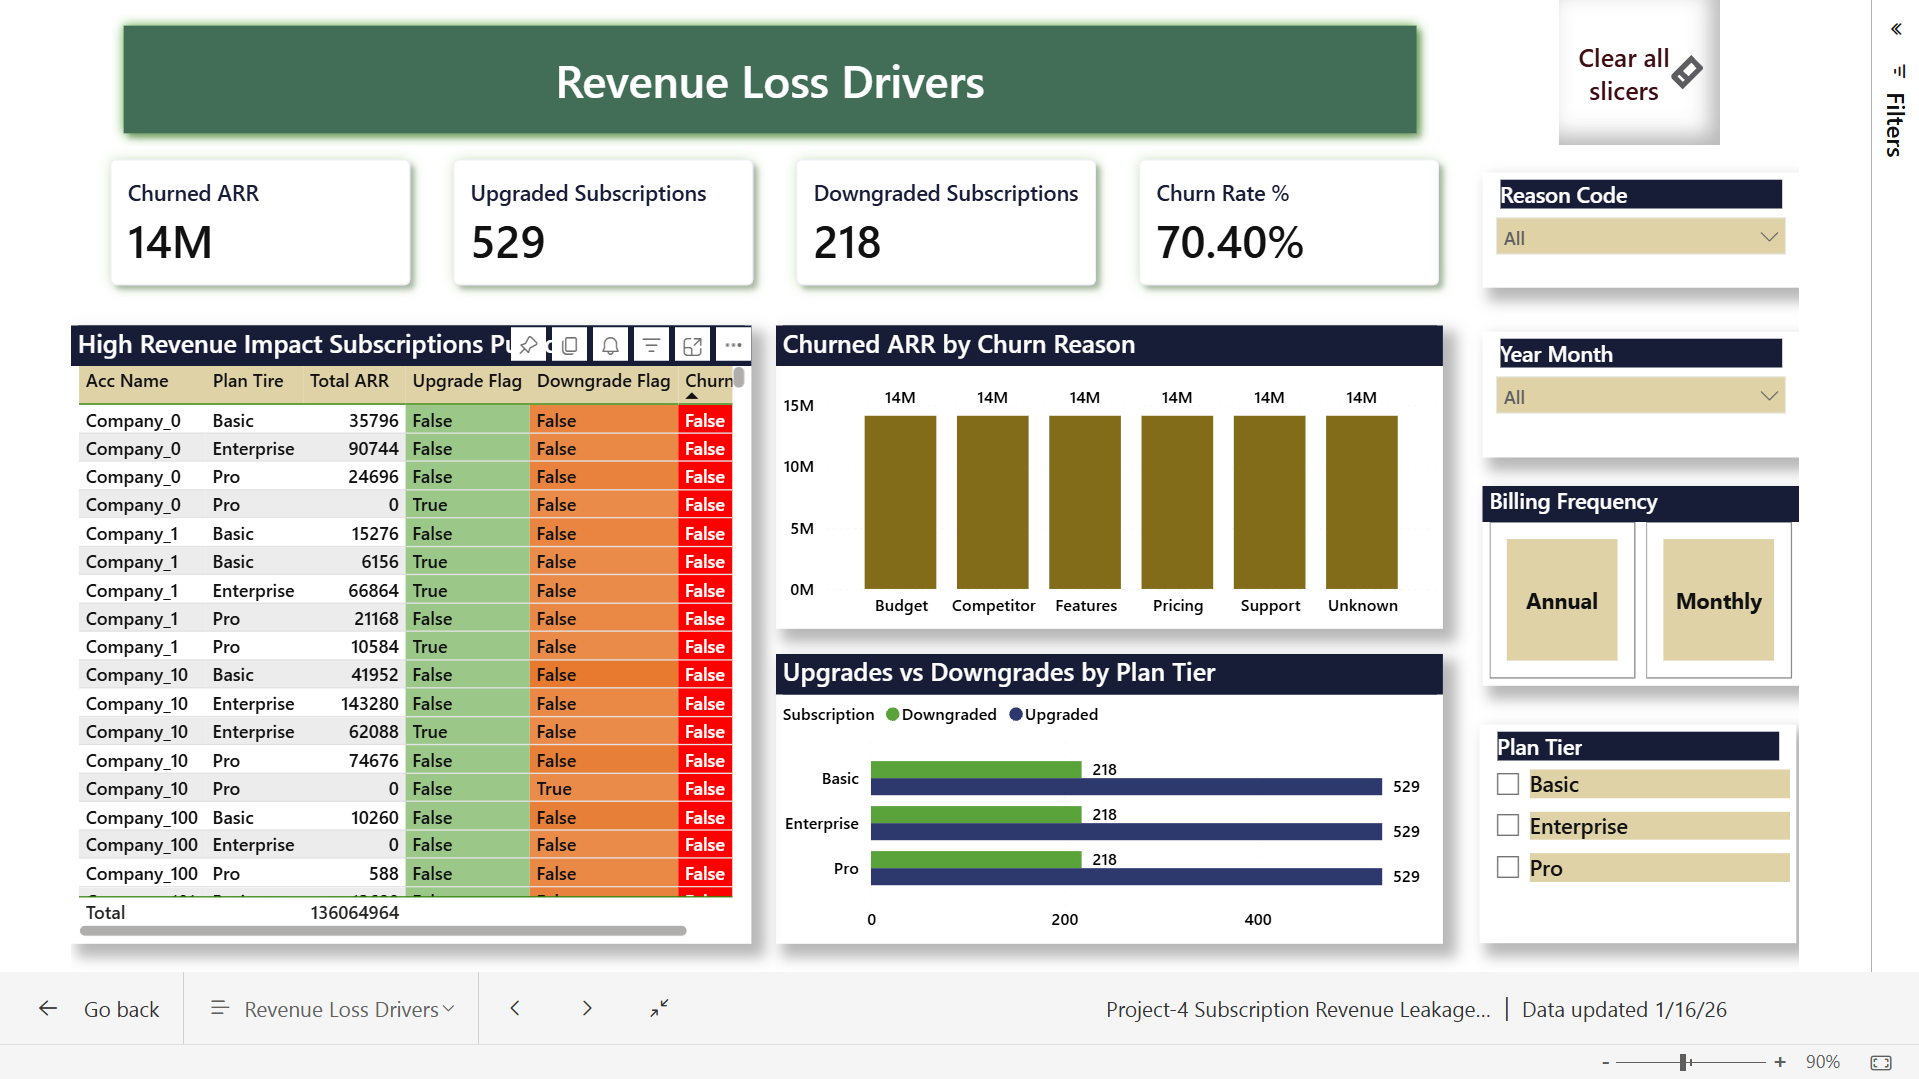

The dashboard page shown, as its layout file describes it:
{"tool":"powerbi","page":{"name":"Revenue Loss Drivers","canvas":[1280,720],"ordinal":2},"visuals":[{"type":"cardVisual","fields":{"Data":["_Measures.Churned ARR","_Measures.Upgraded Subscriptions","_Measures.Downgraded Subscriptions","_Measures.Churn Rate %"]},"box":[0,89.1,1045.1,151.9],"z":1000},{"type":"clusteredBarChart","title":"Upgrades vs Downgrades by Plan Tier","fields":{"Category":["Dim_Plan.Plan Tier"],"Y":["_Measures.Downgraded Subscriptions","_Measures.Upgraded Subscriptions"]},"box":[522.5,484.1,494.2,214.7],"z":5000},{"type":"advancedSlicerVisual","fields":{"Values":["Dim_Plan.Billing Frequency"]},"box":[1045.1,360.5,234.9,147.8],"z":6000},{"type":"slicer","fields":{"Values":["Dim_Plan.Plan Tier"]},"box":[1043,536.7,234.9,162],"z":7000},{"type":"slicer","fields":{"Values":["Dim_Date.Year Month"]},"box":[1045.1,245.1,234.9,93.2],"z":8000},{"type":"clusteredColumnChart","title":"Churned ARR by Churn Reason","fields":{"Category":["Fact_ChurnEvent.reason_code"],"Y":["_Measures.Churned ARR"]},"box":[522.5,241,494.2,224.8],"z":9000},{"type":"actionButton","box":[1101.8,0,119.5,107.3],"z":12000},{"type":"shape","box":[29.8,9.9,975.7,97.7],"z":13000},{"type":"slicer","title":"Reason Code","fields":{"Values":["Fact_ChurnEvent.reason_code"]},"box":[1045.1,127.6,234.9,85.1],"z":13001},{"type":"tableEx","title":"High Revenue Impact Subscriptions Purpose","fields":{"Values":["Dim_Account.account_name","Fact_Subscription.plan_tier","_Measures.Total ARR","Fact_Subscription.upgrade_flag","Fact_Subscription.downgrade_flag","Fact_Subscription.churn_flag"]},"box":[0,241,504.3,457.7],"z":13002}]}

Visuals, with their boxes on the page's 1280x720 design canvas (x1, y1, x2, y2). These are canvas units, not pixel positions in the 1919x1079 screenshot, which may show the page scaled, cropped or inside an application window:
cardVisual - _Measures.Churned ARR x _Measures.Upgraded Subscriptions: (x1=0, y1=89, x2=1045, y2=241)
"Upgrades vs Downgrades by Plan Tier" clusteredBarChart: (x1=522, y1=484, x2=1017, y2=699)
advancedSlicerVisual - Dim_Plan.Billing Frequency: (x1=1045, y1=360, x2=1280, y2=508)
slicer - Dim_Plan.Plan Tier: (x1=1043, y1=537, x2=1278, y2=699)
slicer - Dim_Date.Year Month: (x1=1045, y1=245, x2=1280, y2=338)
"Churned ARR by Churn Reason" clusteredColumnChart: (x1=522, y1=241, x2=1017, y2=466)
actionButton: (x1=1102, y1=0, x2=1221, y2=107)
shape: (x1=30, y1=10, x2=1006, y2=108)
"Reason Code" slicer: (x1=1045, y1=128, x2=1280, y2=213)
"High Revenue Impact Subscriptions Purpose" tableEx: (x1=0, y1=241, x2=504, y2=699)
